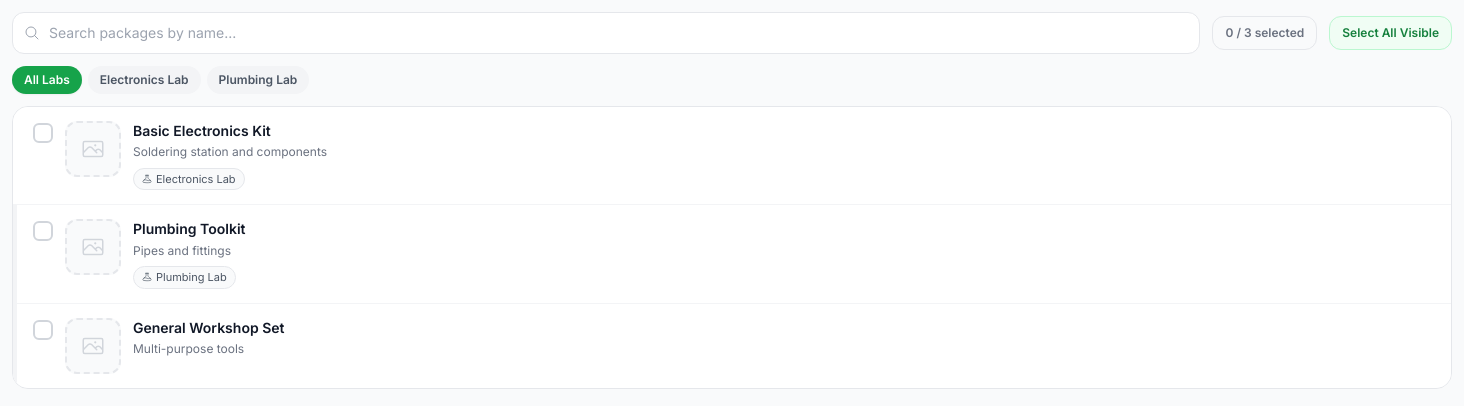
Test: PackageSelector Component › Search › clear search button resets filter
Type "Plumbing" into the field with placeholder "Search packages by name...".
click(606, 33); type("Plumbing")  # box [12, 12, 1200, 54]
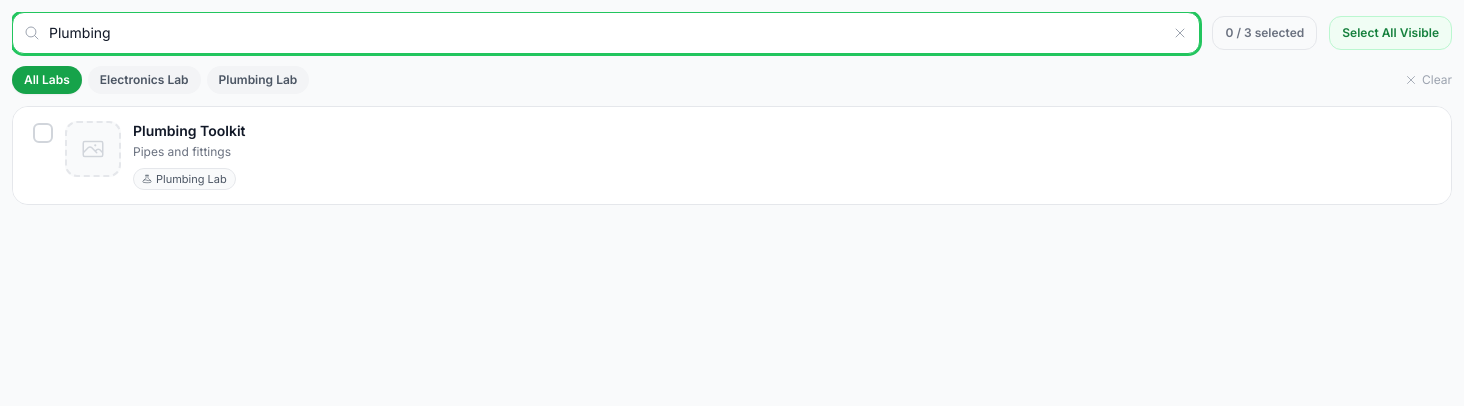
Now the text "Basic Electronics Kit" is gone
Click the 1st button.
click(1180, 33)  # box [1172, 25, 1188, 41]
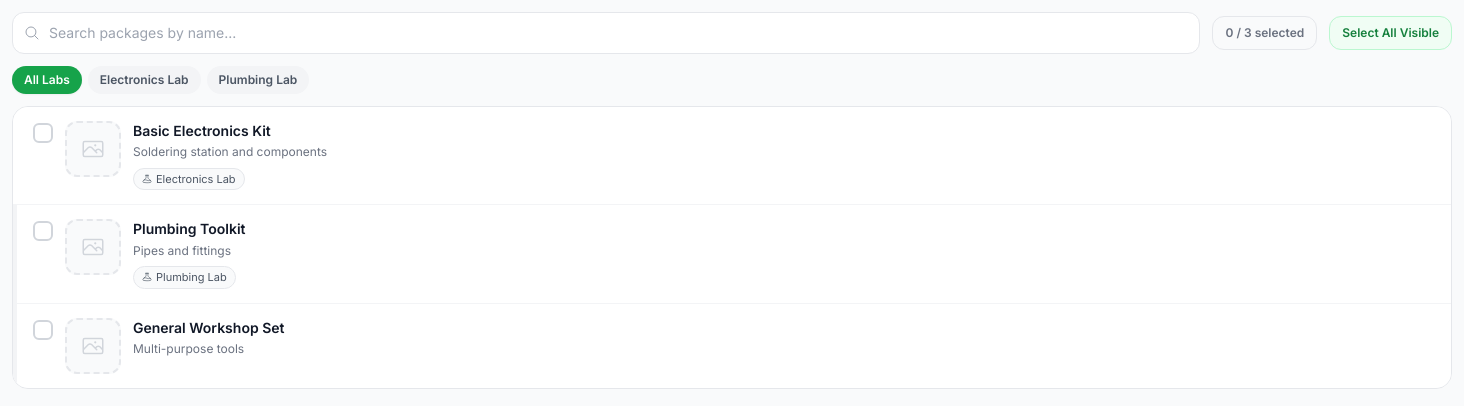
Now the text "Basic Electronics Kit" is shown, box [133, 121, 271, 140]
